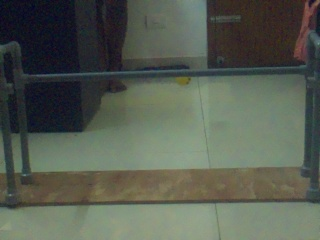ball: (176, 77, 190, 85)
